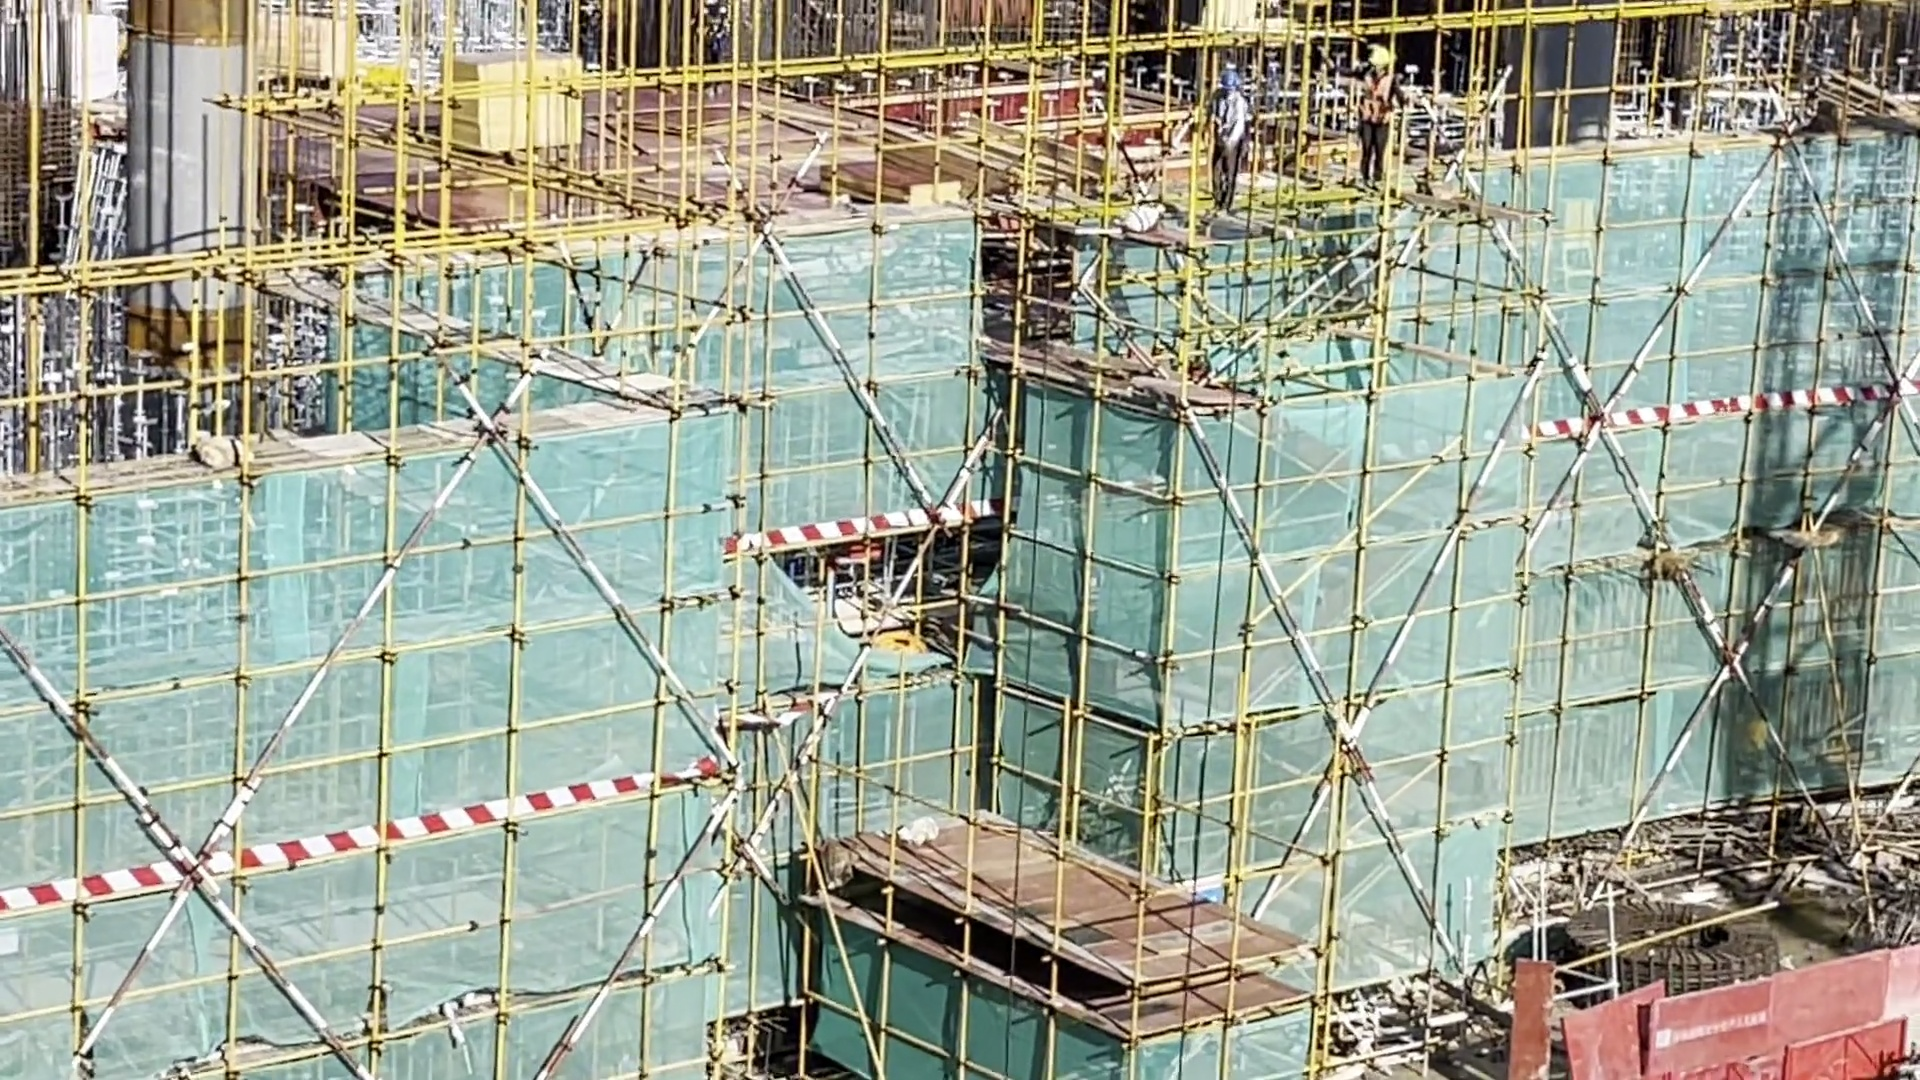ebox: (1557, 190, 1600, 303)
helmet: (1365, 44, 1396, 68), (1217, 63, 1239, 92)
person: (1341, 32, 1402, 174), (1204, 72, 1256, 205)
vest: (1360, 80, 1400, 132), (1211, 97, 1246, 149)
